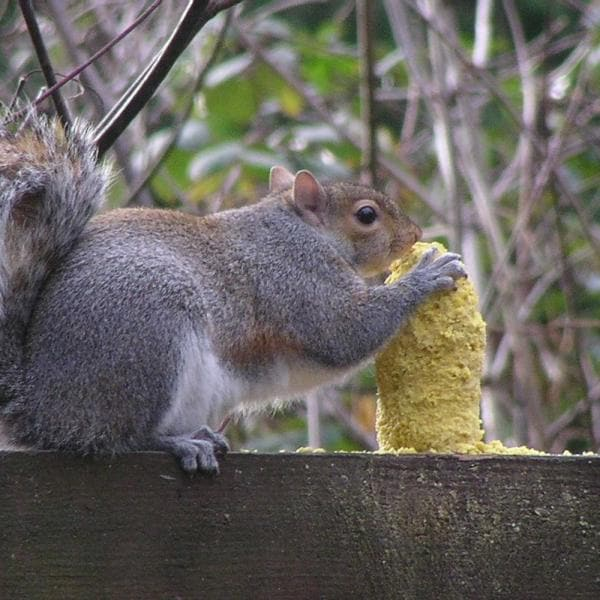squirrel: (3, 159, 448, 478)
